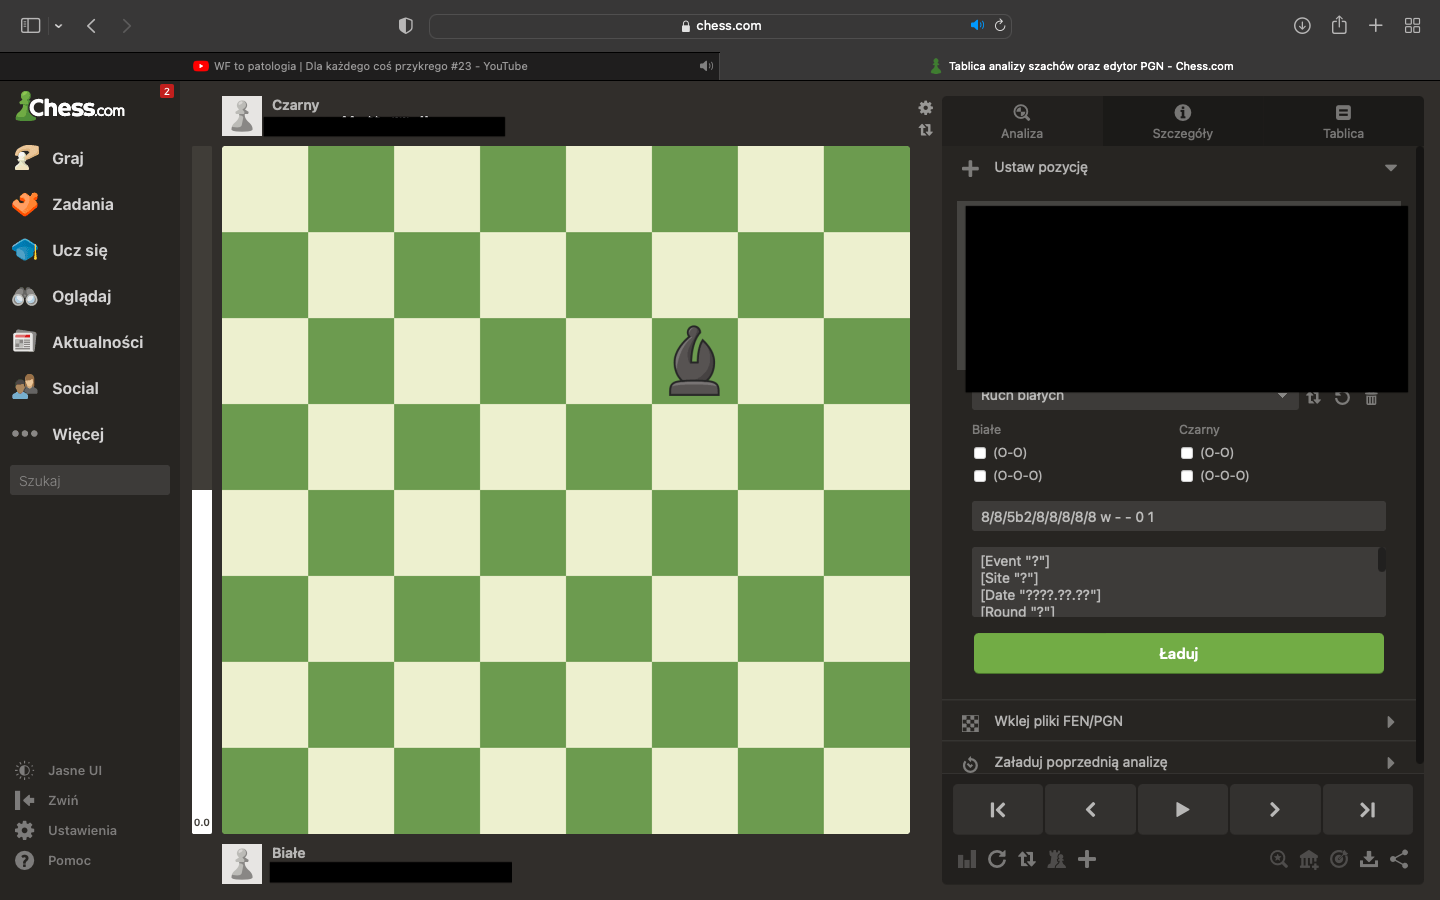black_bishop: (668, 324, 721, 398)
